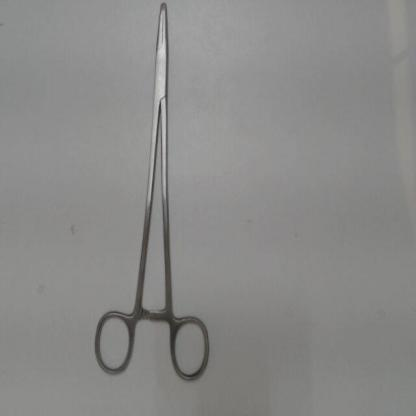8 Mayo Needle Holder: (88, 0, 218, 388)
